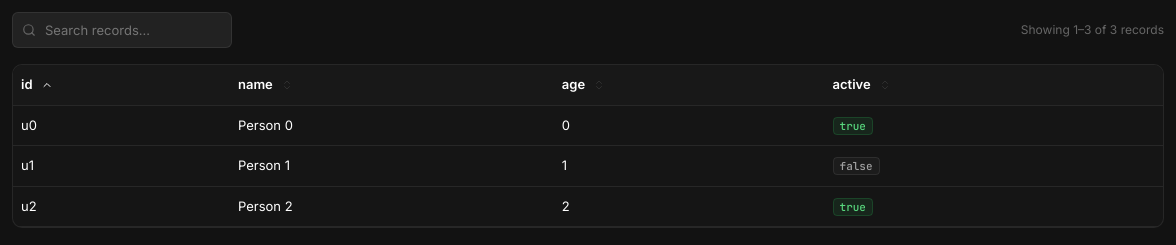
Test case: DataGrid search › shows an empty message when nothing matches
The width and height of the screenshot is (1176, 245).
Step 1. Type "zzzz" into the field with placeholder "Search records..." → (122, 30), box [12, 12, 232, 48]
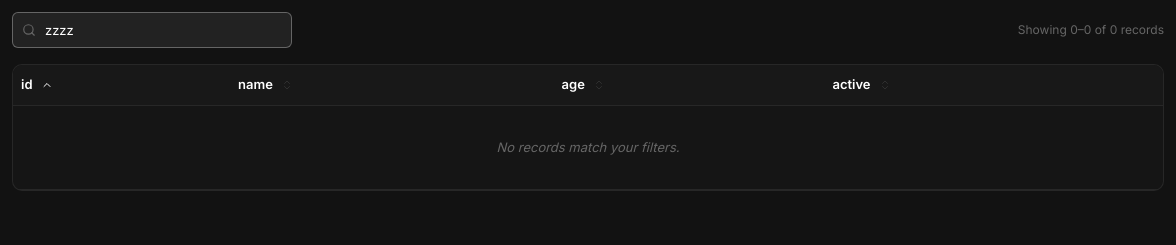
Check: the text "No records match your filters." is shown, box [13, 105, 1163, 190]
